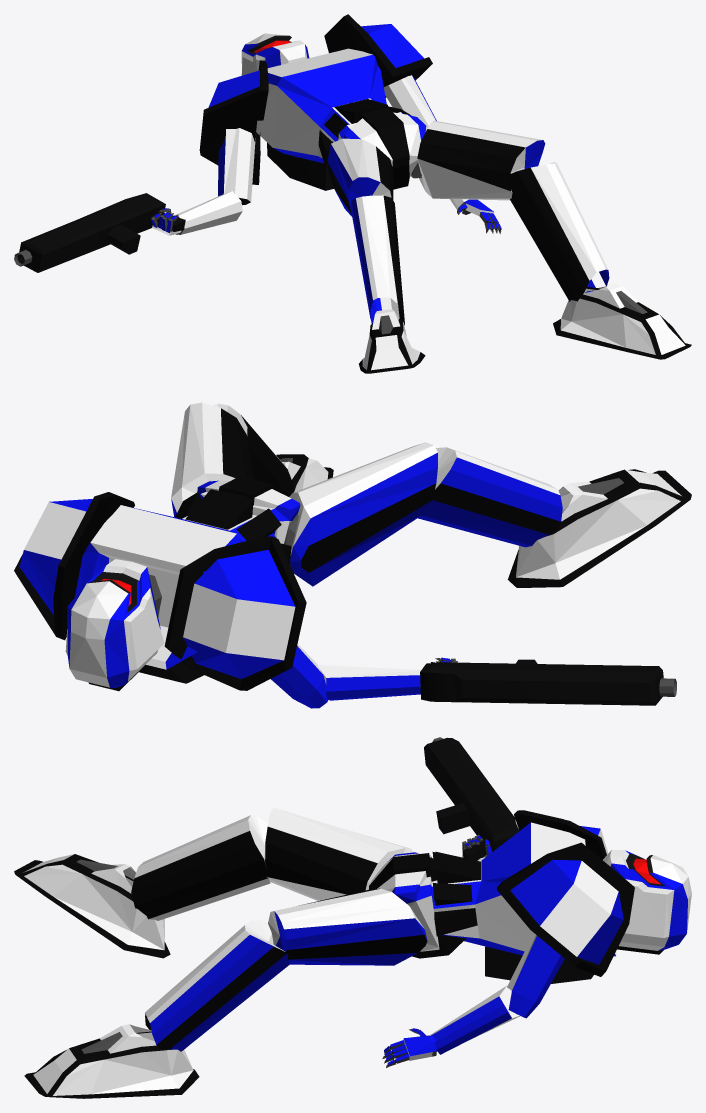
File: robots_000032.obj
3 renders of one model, top to bottom at view 1: azimuth 30°, elevation 25°; view 2: azimuth 150°, elevation 25°; view 3: azimuth 270°, elevation 25°, orthographic. The views are drawn at different scales.
Parts seen in each view (by area): view 1: Chest_plate_Cube.004, R_Thigh.002_Cube.027, R_Shin.002_Cube.029, R_Foot.002_Cube.035, Cube_Cube.001, R_Shin_Cube.007, Cube.002_Cube.059, Cube_Cube.021, R_Thigh_Cube.005, Pelvis_Cube.006, R_Foot_Cube, R_Arm_Cube.002 (+3 smaller); view 2: Cube.002_Cube.059, Chest_plate_Cube.004, R_Thigh_Cube.005, R_Foot_Cube, Cube_Cube.001, Head_base_Cube.022, R_Shin_Cube.007, Cube_Cube.021, R_Thigh.002_Cube.027, R_Forearm_Cube.008, Pelvis_Cube.006, R_Arm_Cube.002 (+2 smaller); view 3: Cube_Cube.021, Chest_plate_Cube.004, R_Thigh.002_Cube.027, R_Shin_Cube.007, R_Shin.002_Cube.029, R_Foot.002_Cube.035, R_Thigh_Cube.005, R_Foot_Cube, Head_base_Cube.022, Cube_Cube.001, Pelvis_Cube.006, L_Arm_Cube.014 (+3 smaller).
Boxes of the visible parts, box(x1,y1,x2,y2) form: Chest_plate_Cube.004: box(256, 48, 410, 190); R_Thigh.002_Cube.027: box(417, 120, 545, 200); R_Shin.002_Cube.029: box(508, 162, 609, 301); R_Foot.002_Cube.035: box(553, 283, 691, 359); Cube_Cube.001: box(14, 193, 185, 272); R_Shin_Cube.007: box(350, 195, 404, 324); Cube.002_Cube.059: box(199, 60, 268, 184); Cube_Cube.021: box(324, 14, 432, 97); R_Thigh_Cube.005: box(327, 138, 393, 216); Pelvis_Cube.006: box(338, 107, 426, 189); R_Foot_Cube: box(359, 309, 425, 373); R_Arm_Cube.002: box(218, 128, 255, 205); Cube.002_Cube.059: box(164, 536, 306, 690); Chest_plate_Cube.004: box(74, 489, 291, 683); R_Thigh_Cube.005: box(289, 442, 437, 586); R_Foot_Cube: box(507, 469, 691, 587); Cube_Cube.001: box(420, 659, 676, 705); Head_base_Cube.022: box(65, 559, 164, 691); R_Shin_Cube.007: box(418, 447, 562, 547); Cube_Cube.021: box(14, 492, 134, 640); R_Thigh.002_Cube.027: box(171, 402, 254, 517); R_Forearm_Cube.008: box(317, 665, 421, 700); Pelvis_Cube.006: box(197, 476, 300, 543); R_Arm_Cube.002: box(271, 644, 328, 708); Cube_Cube.021: box(496, 842, 634, 976); Chest_plate_Cube.004: box(431, 822, 616, 983); R_Thigh.002_Cube.027: box(268, 888, 427, 965); R_Shin_Cube.007: box(131, 815, 271, 920); R_Shin.002_Cube.029: box(145, 920, 289, 1051); R_Foot.002_Cube.035: box(24, 1024, 199, 1098); R_Thigh_Cube.005: box(265, 807, 413, 900); R_Foot_Cube: box(14, 854, 170, 958); Head_base_Cube.022: box(603, 849, 691, 954); Cube_Cube.001: box(424, 737, 519, 860); Pelvis_Cube.006: box(369, 852, 465, 958); L_Arm_Cube.014: box(507, 933, 564, 1018).
Bounding box in the file's own units: 3.05 × 1.12 × 3.24.
